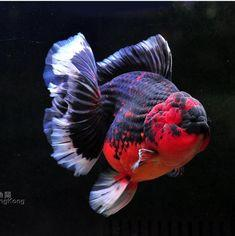goldfish: (47, 47, 221, 199)
